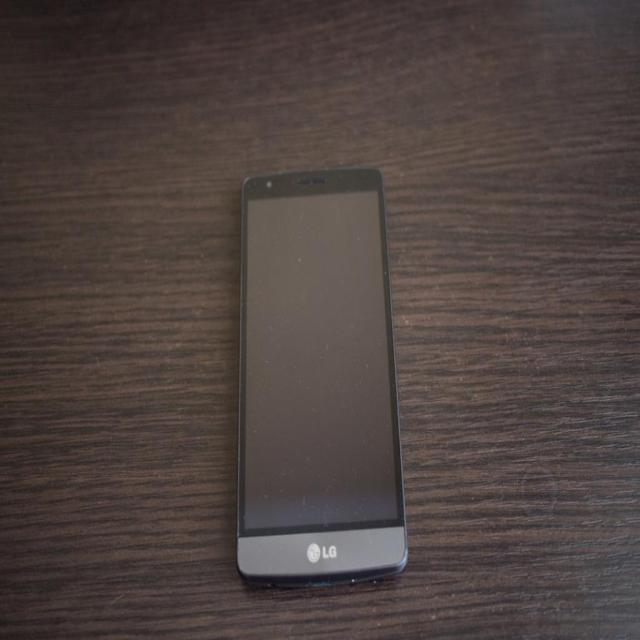Phone: (237, 162, 408, 587)
